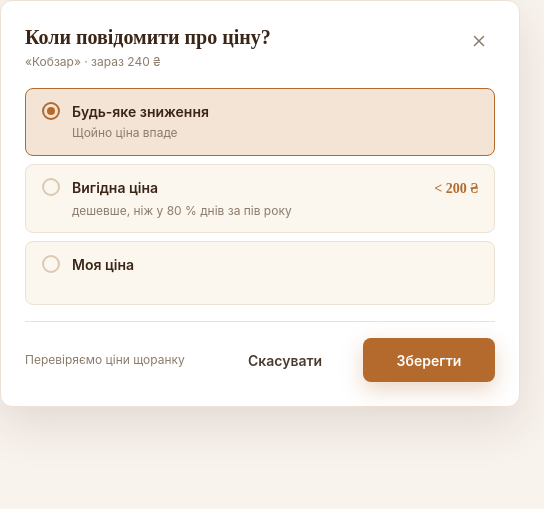
Scenario: AlertConfig › «Зберегти» stays disabled for my-price until the amount is confirmed, then enables
The image size is (544, 509).
Click the radio button labelled "Моя ціна" at (260, 273), box [25,241,495,305]
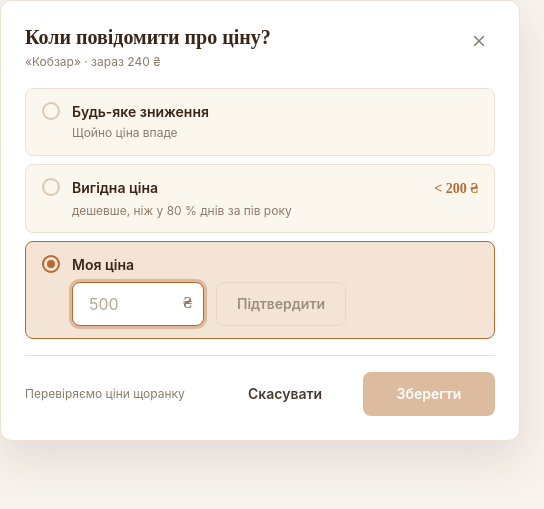
Now the button "Зберегти" is disabled, box [363,372,495,416]
Type "199" into the field named "Моя ціна" at (138, 304), box [72,282,204,326]
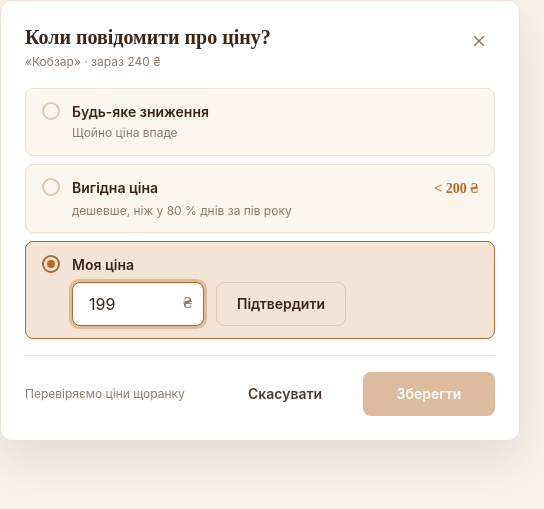
Click the button "Підтвердити" at (281, 304), box [216,282,346,326]
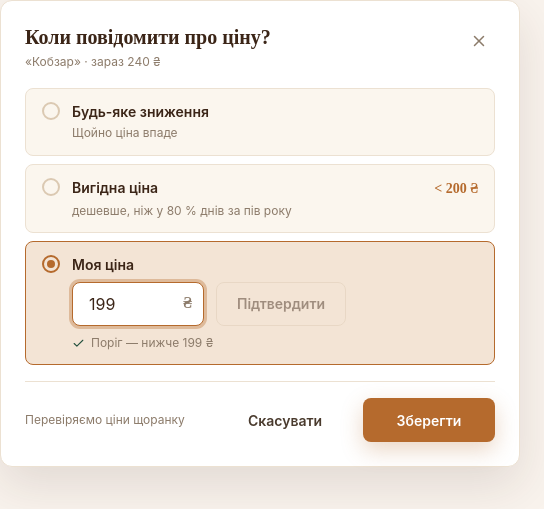
Now the button "Зберегти" is enabled, box [363,398,495,442]
